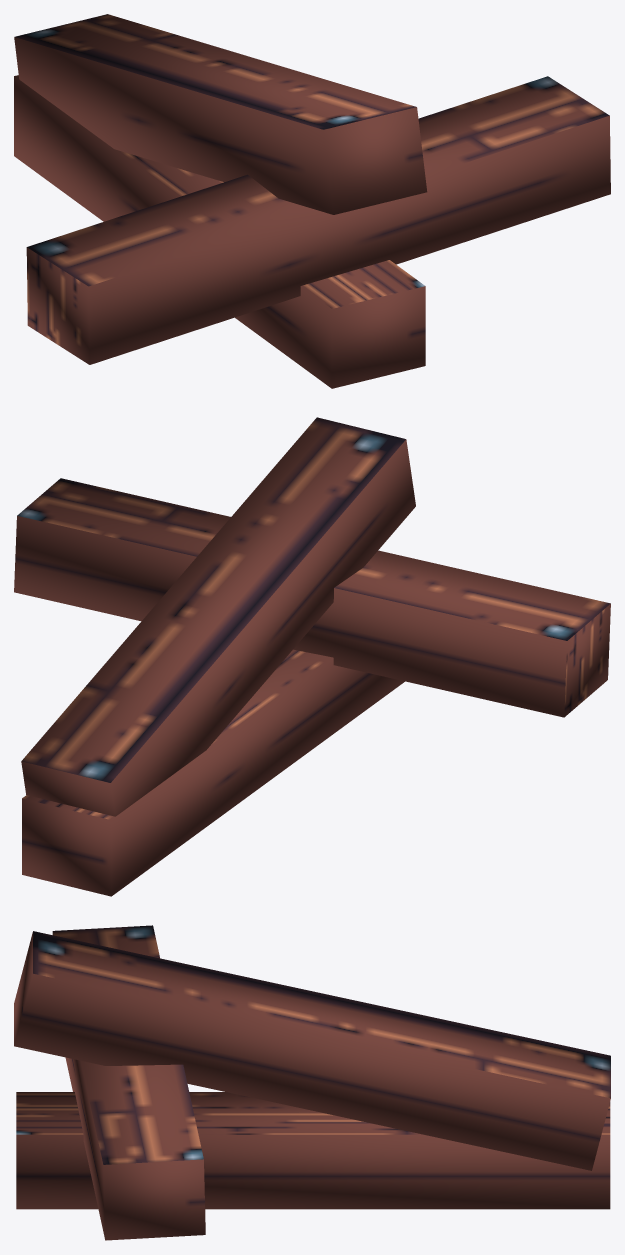
The model's file is BlocoDeMadeira.fbx.
3 renders of one model, top to bottom at view 1: azimuth 30°, elevation 25°; view 2: azimuth 150°, elevation 25°; view 3: azimuth 270°, elevation 25°, orthographic. The views are drawn at different scales.
Parts seen in each view (by area): view 1: BlocoMadeira; view 2: BlocoMadeira; view 3: BlocoMadeira.
Boxes of the visible parts, bbox=[...] form: BlocoMadeira: bbox=[14, 14, 610, 388]; BlocoMadeira: bbox=[14, 417, 610, 896]; BlocoMadeira: bbox=[14, 925, 610, 1240].
Bounding box in the file's own units: 735 × 728 × 317.
